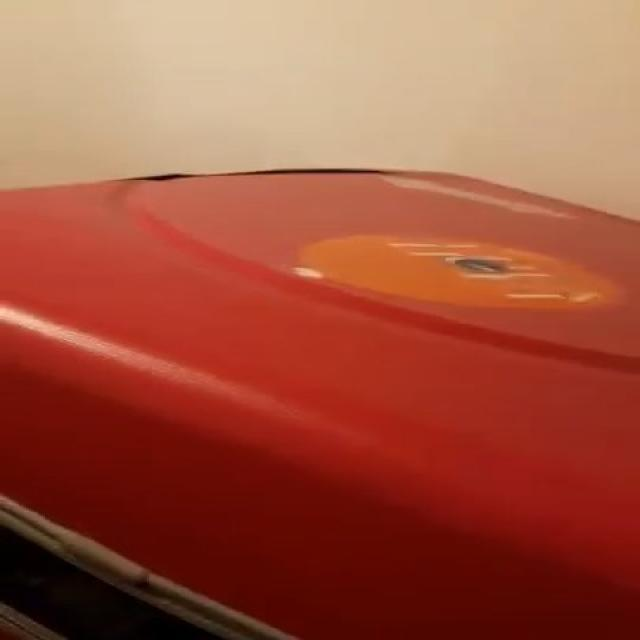Damage-bag: (124, 168, 387, 181)
